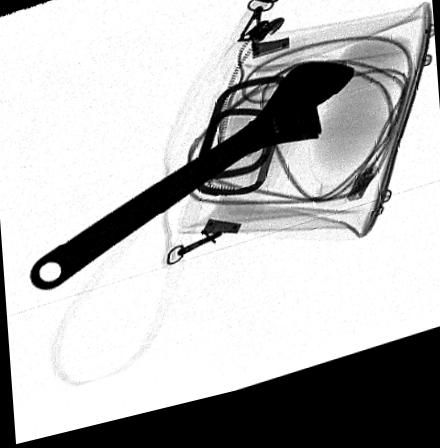Wrench: (29, 73, 355, 291)
